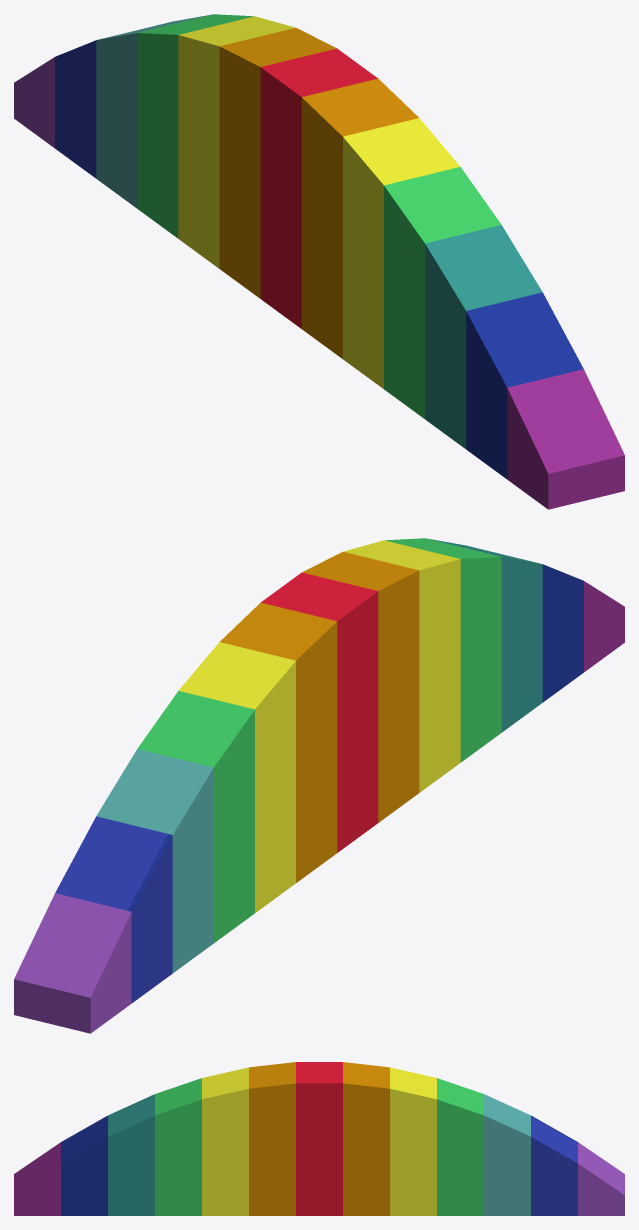
The model's file is FloatingRainbow.fbx.
3 views of the same model, one above another, from view 1: azimuth 30°, elevation 25°; view 2: azimuth 150°, elevation 25°; view 3: azimuth 270°, elevation 25° (orthographic). The views are drawn at different scales.
Visible parts, largest first — view 1: FloatingRainbow; view 2: FloatingRainbow; view 3: FloatingRainbow.
Part boxes in pixels (bbox=[...]): FloatingRainbow: bbox=[14, 14, 624, 509]; FloatingRainbow: bbox=[14, 538, 624, 1033]; FloatingRainbow: bbox=[14, 1062, 624, 1215].
Size of what is drawn, in the model's own units: 0.4526 by 5.47 by 1.31.
